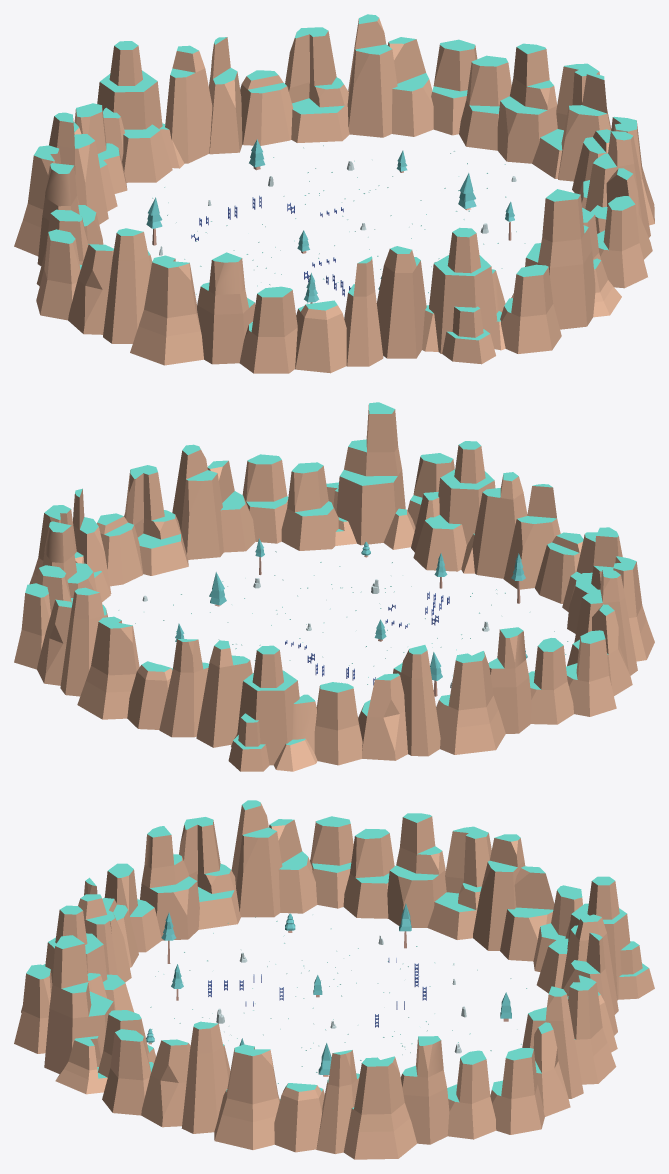
The model's file is decorations-t.glb.
3 renders of one model, top to bottom at view 1: azimuth 30°, elevation 25°; view 2: azimuth 150°, elevation 25°; view 3: azimuth 270°, elevation 25°, orthographic. The views are drawn at different scales.
Visible parts, largest first — view 1: rock_tallB, rock_tallB.001, rock_tallA, rock_tallH.002, rock_tallH, rock_tallG.002, rock_tallI.002, rock_tallG, rock_tallC, rock_tallC.001, rock_tallI, rock_tallF.003 (+23 smaller); view 2: rock_tallA, rock_tallB.001, rock_tallB, rock_tallH.001, rock_tallH.002, rock_tallI.003, rock_tallH.004, rock_tallF.009, rock_tallC.001, rock_tallC, rock_tallJ.001, rock_tallF.005 (+24 smaller); view 3: rock_tallA, rock_tallH.003, rock_tallH.004, rock_tallB.001, rock_tallG.001, rock_tallI, rock_tallH.001, rock_tallG, rock_tallH, rock_tallI.003, rock_tallG.002, rock_tallI.001 (+23 smaller).
Boxes of the visible parts, left/top/right/bottom form: rock_tallB: left=422, top=227, right=505, bottom=364; rock_tallB.001: left=97, top=41, right=184, bottom=182; rock_tallA: left=511, top=189, right=621, bottom=329; rock_tallH.002: left=285, top=27, right=349, bottom=142; rock_tallH: left=130, top=255, right=203, bottom=365; rock_tallG.002: left=497, top=43, right=557, bottom=163; rock_tallI.002: left=347, top=14, right=397, bottom=137; rock_tallG: left=197, top=252, right=255, bottom=364; rock_tallC: left=376, top=246, right=426, bottom=358; rock_tallC.001: left=165, top=45, right=212, bottom=163; rock_tallI: left=103, top=228, right=152, bottom=343; rock_tallF.003: left=500, top=264, right=561, bottom=353; rock_tallA: left=326, top=402, right=415, bottom=549; rock_tallB.001: left=228, top=645, right=317, bottom=771; rock_tallB: left=411, top=441, right=495, bottom=573; rock_tallH.001: left=436, top=651, right=505, bottom=754; rock_tallH.002: left=77, top=616, right=139, bottom=719; rock_tallI.003: left=172, top=444, right=223, bottom=559; rock_tallH.004: left=124, top=465, right=188, bottom=575; rock_tallF.009: left=281, top=462, right=338, bottom=550; rock_tallC.001: left=196, top=640, right=252, bottom=747; rock_tallC: left=472, top=472, right=527, bottom=578; rock_tallJ.001: left=358, top=673, right=407, bottom=760; rock_tallF.005: left=314, top=682, right=362, bottom=765; rock_tallA: left=44, top=935, right=114, bottom=1094; rock_tallH.003: left=343, top=1056, right=416, bottom=1159; rock_tallH.004: left=214, top=1044, right=280, bottom=1149; rock_tallB.001: left=536, top=876, right=654, bottom=1000; rock_tallG.001: left=387, top=813, right=446, bottom=927; rock_tallI: left=231, top=800, right=282, bottom=917; rock_tallH.001: left=427, top=826, right=491, bottom=939; rock_tallG: left=140, top=826, right=199, bottom=940; rock_tallH: left=179, top=817, right=240, bottom=929; rock_tallI.003: left=181, top=1021, right=230, bottom=1133; rock_tallG.002: left=400, top=1036, right=449, bottom=1144; rock_tallI.001: left=473, top=834, right=525, bottom=950.
Bounding box in the file's own units: 166 × 33.79 × 161.
Materials: 70 (1 with a texture image).
